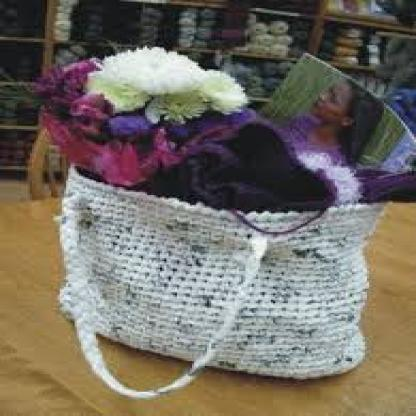Miscellaneous: (45, 154, 399, 406)
